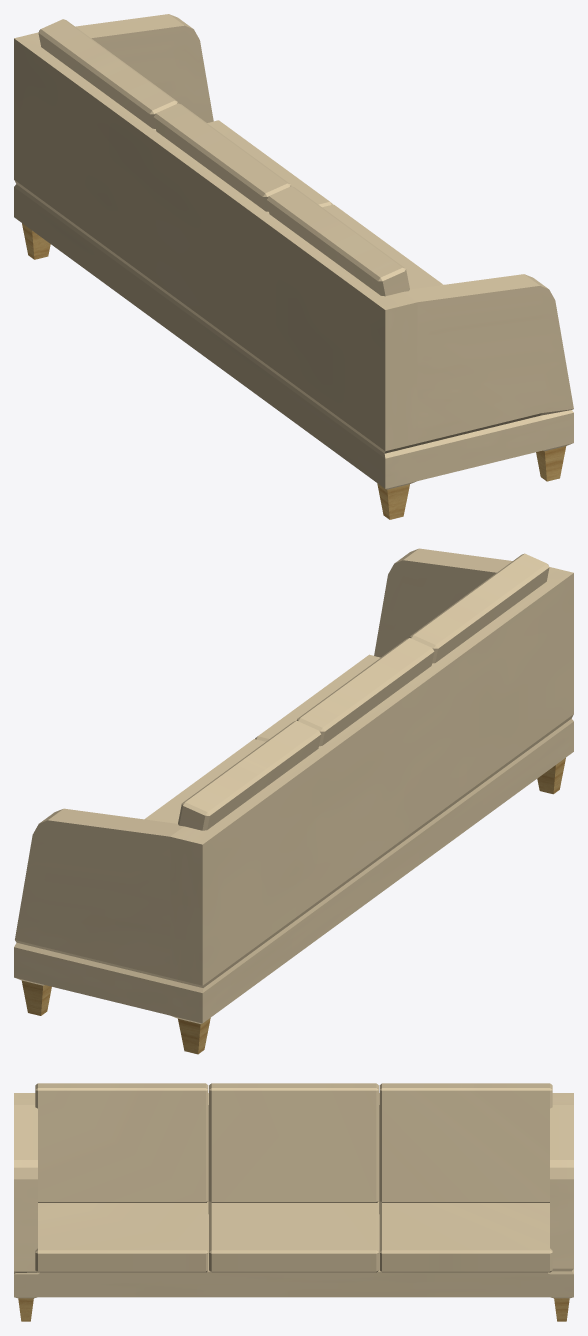
File: SM_Sofa.fbx
The picture shows the model from 3 angles, top to bottom: view 1: azimuth 30°, elevation 25°; view 2: azimuth 150°, elevation 25°; view 3: azimuth 270°, elevation 25°; orthographic projection. The views are drawn at different scales.
Parts seen in each view (by area): view 1: SM_Sofa; view 2: SM_Sofa; view 3: SM_Sofa.
Boxes of the visible parts, x1,y1,x2,y2 form: SM_Sofa: (14, 14, 573, 519); SM_Sofa: (14, 548, 573, 1054); SM_Sofa: (14, 1083, 573, 1321).
Size of the model in its own units: 54.56 by 64.79 by 183.
